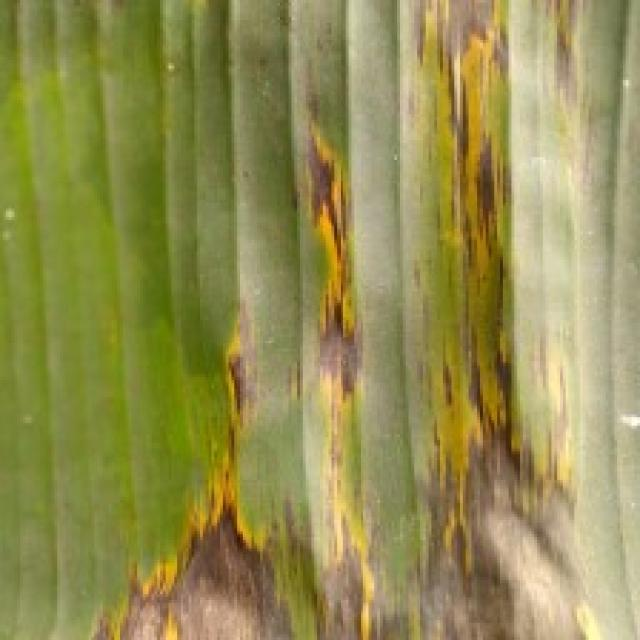Early_leaf_spot: (383, 0, 640, 640), (57, 294, 294, 640), (269, 121, 403, 640)
